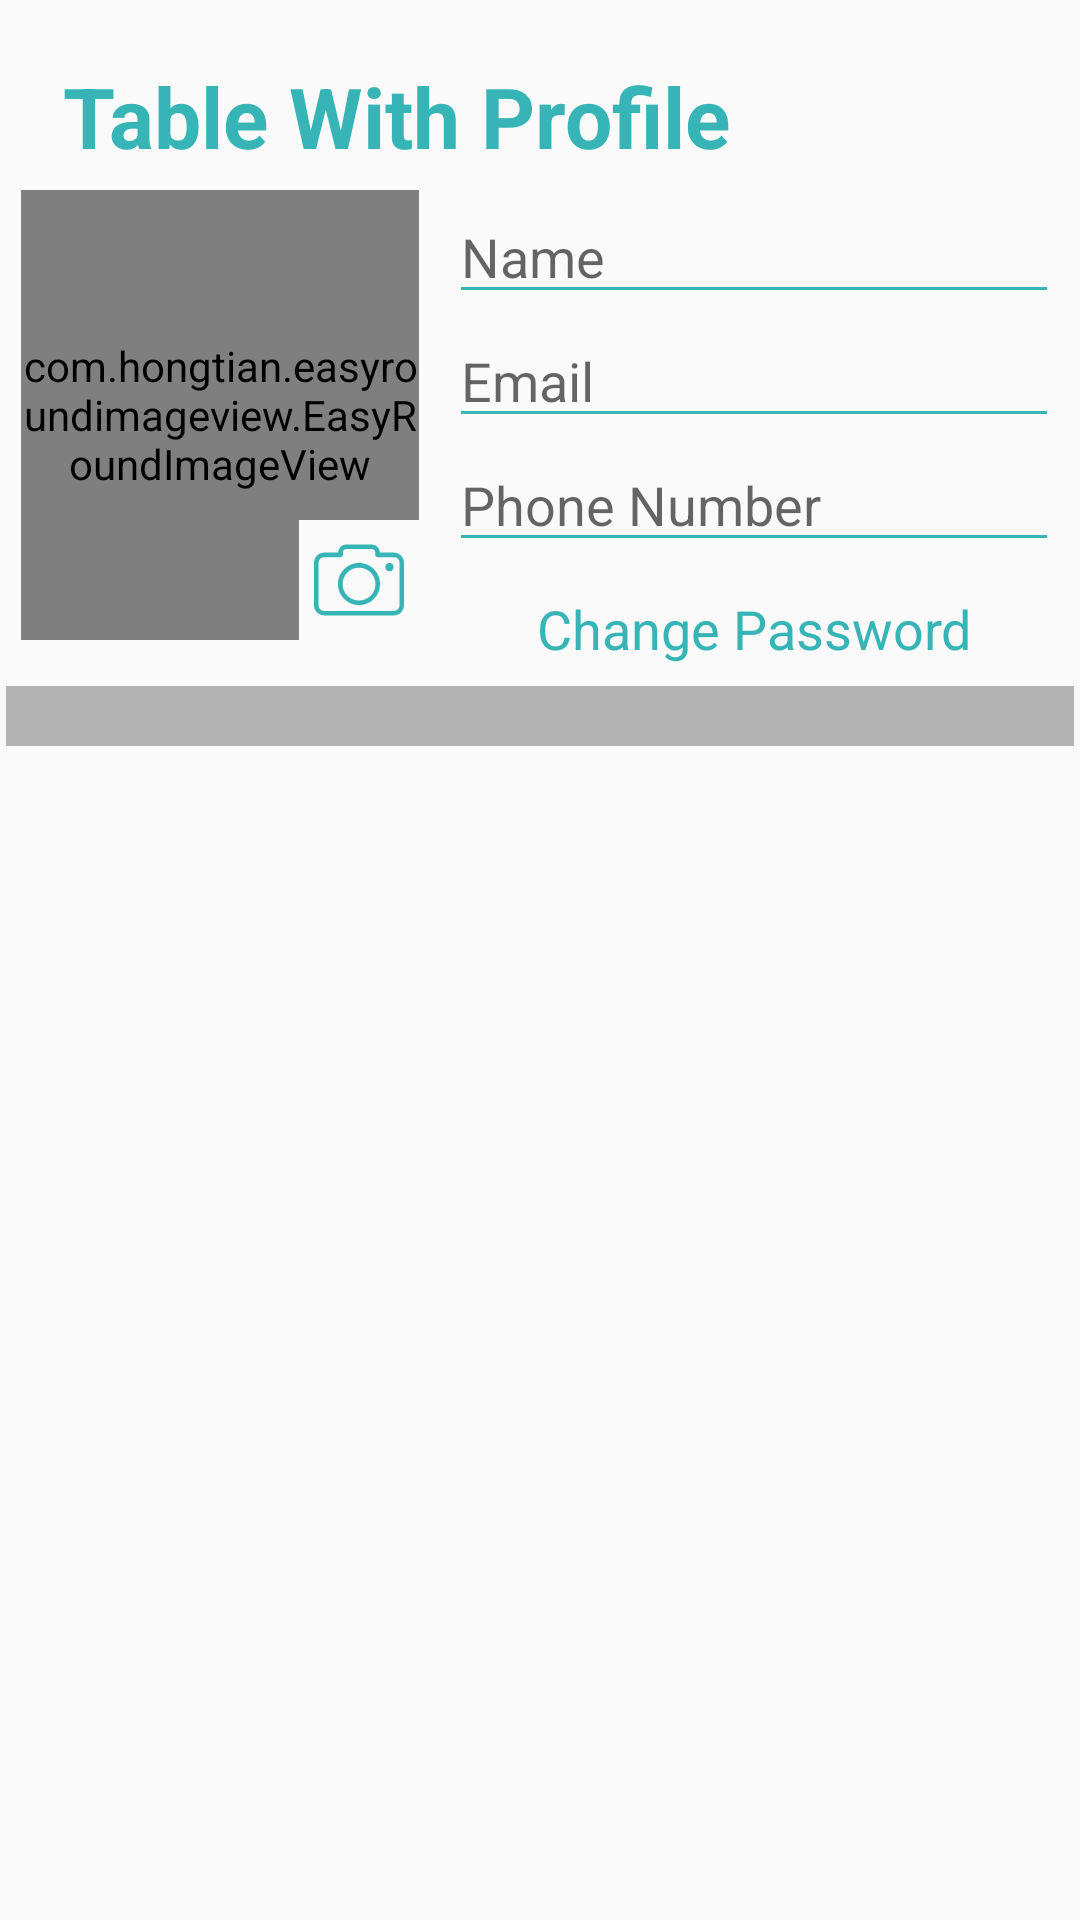

Named icons in this screenshot (1080*1920) and their bounding boxes, (x1, y1, x2, y2):
camera: (314, 544, 404, 616)
